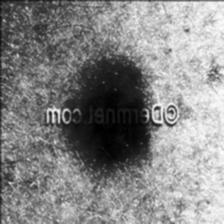Potentially Malignant Skin Tumors: (78, 123, 146, 171)
